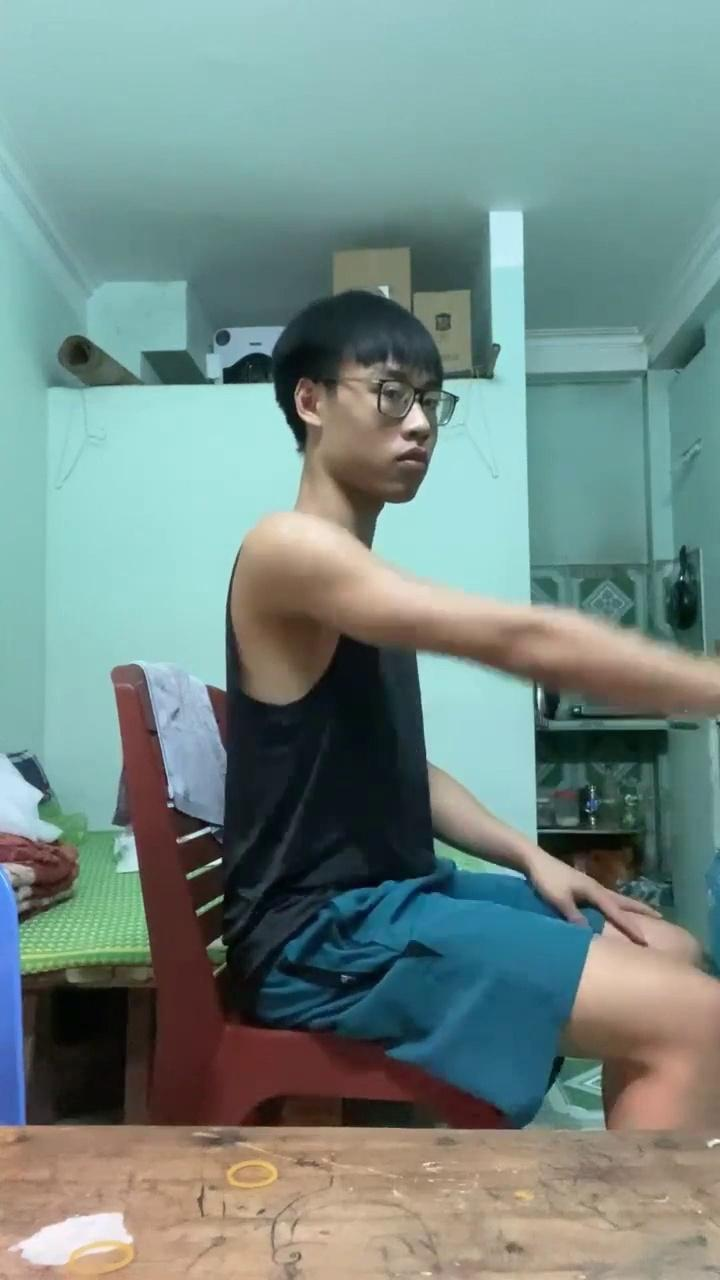GoodPosture: (224, 291, 719, 1130)
